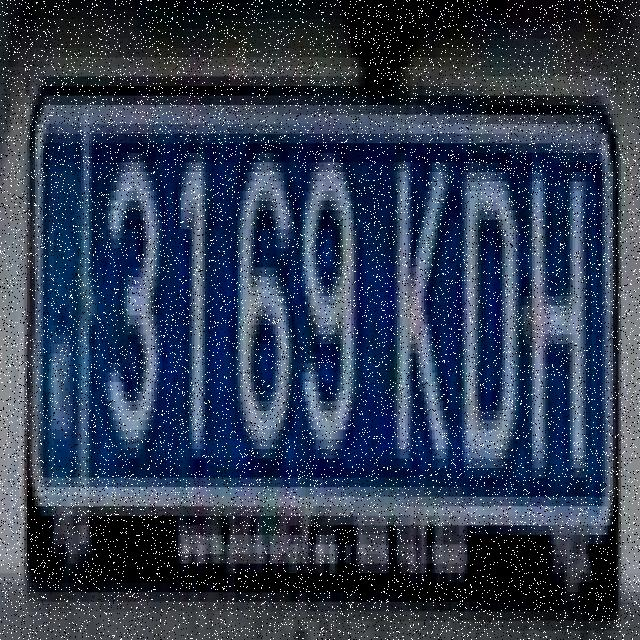licenseplate: (16, 17, 628, 635)
